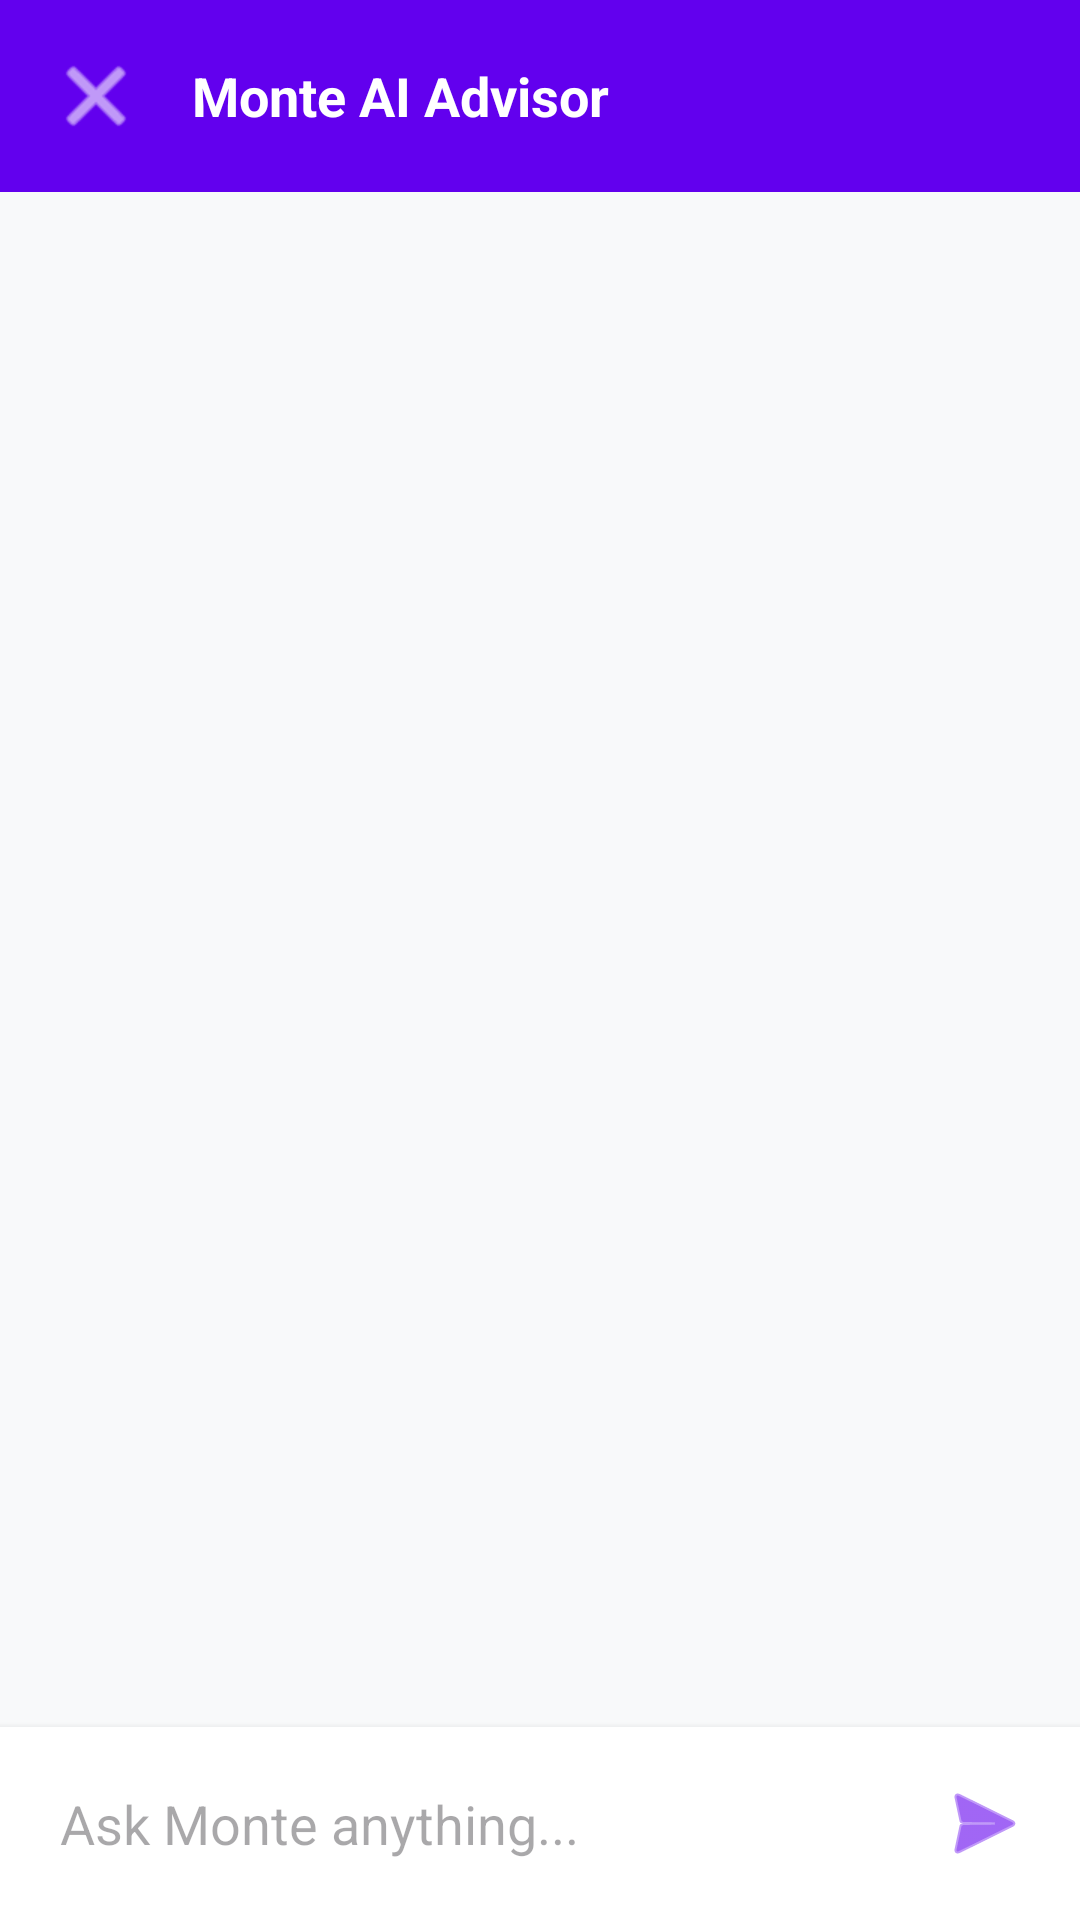

Icon bounding boxes for this 1080x1920 phone screenshot, format (x1, y1, x2, y2):
close clear cancel: (66, 66, 126, 126)
send: (954, 1793, 1016, 1854)
